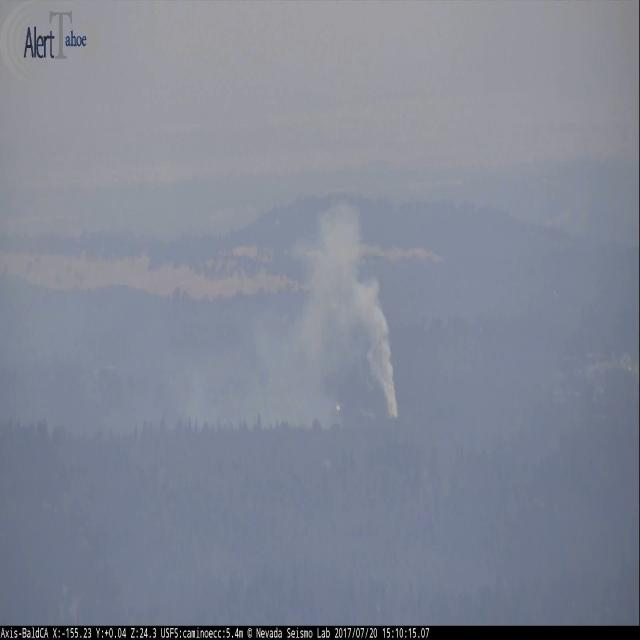smoke: (200, 195, 402, 424)
